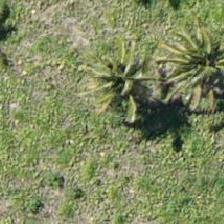coconut_tree: (76, 28, 166, 118), (157, 18, 223, 108)
